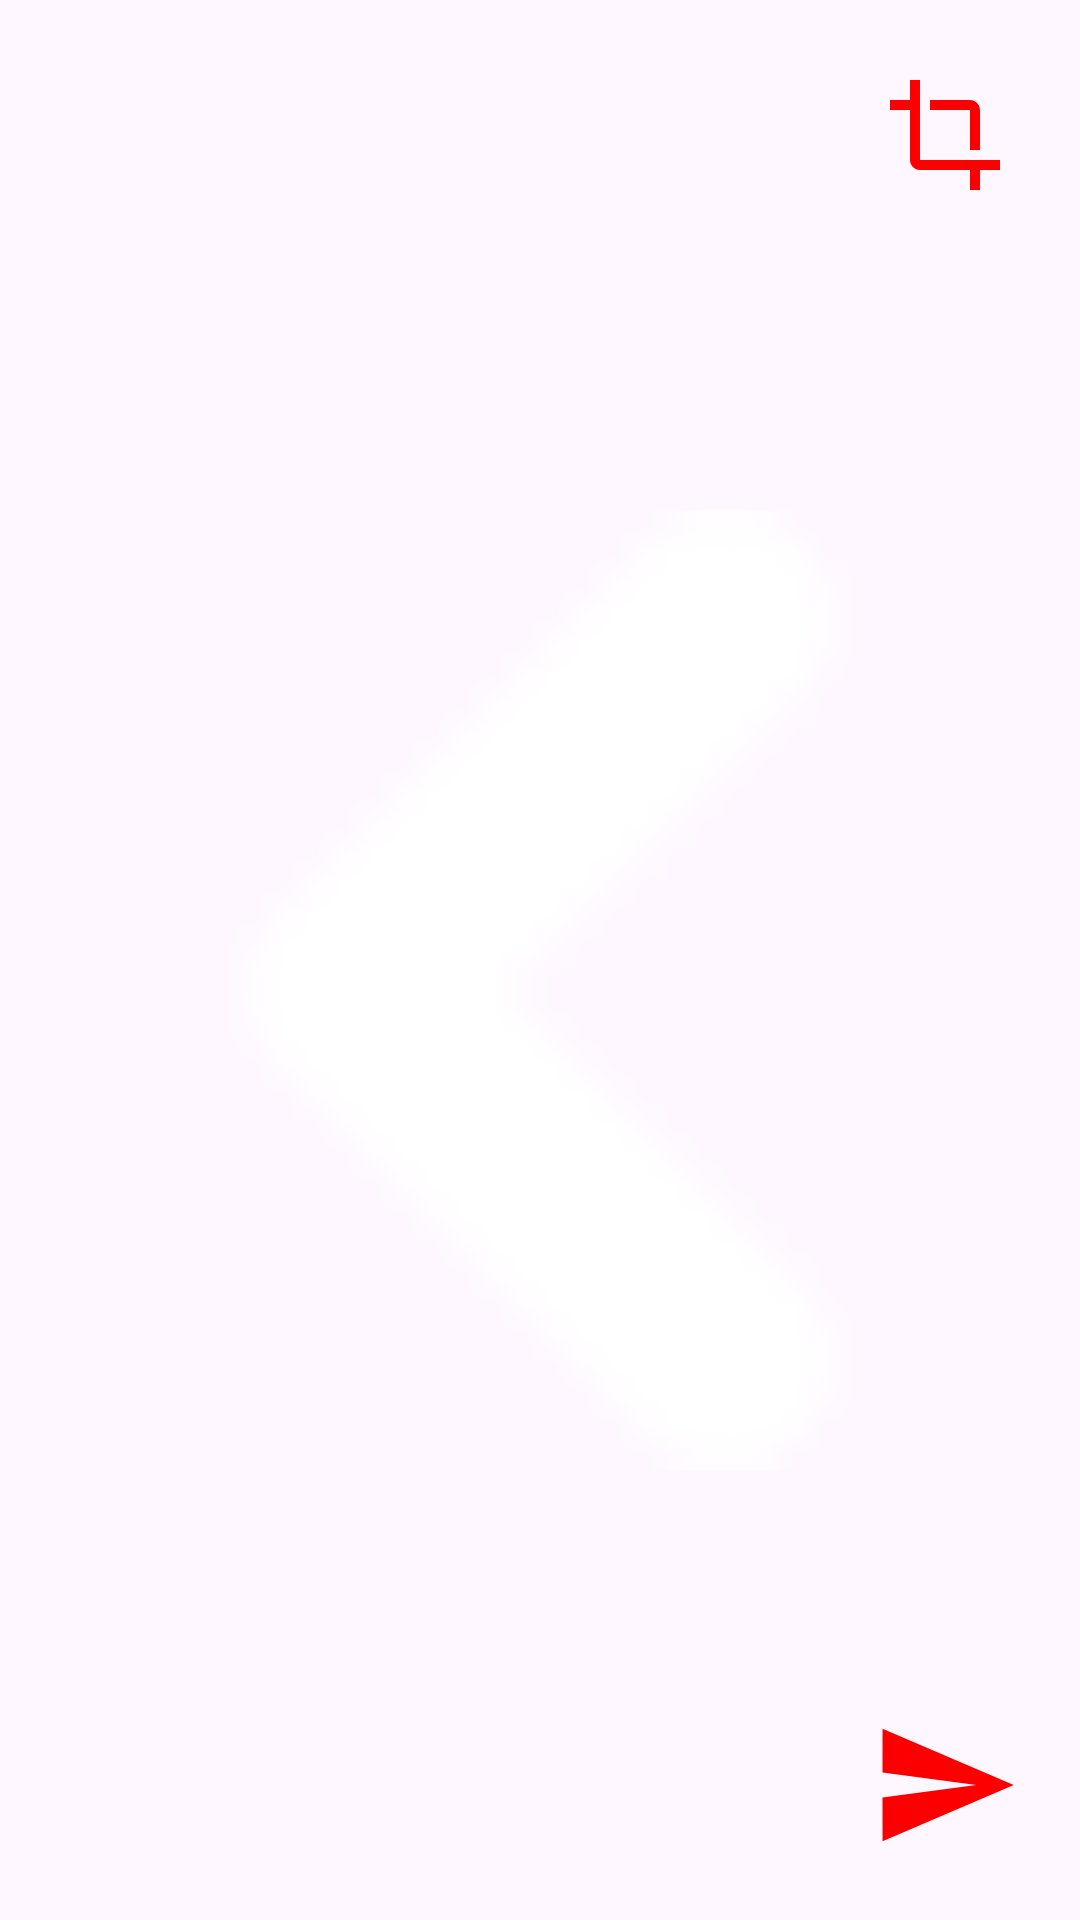

Point at icon controls on the screen. Image size 1080*1920, points as point (x, y).
crop: point (945, 135)
send: point (948, 1785)
